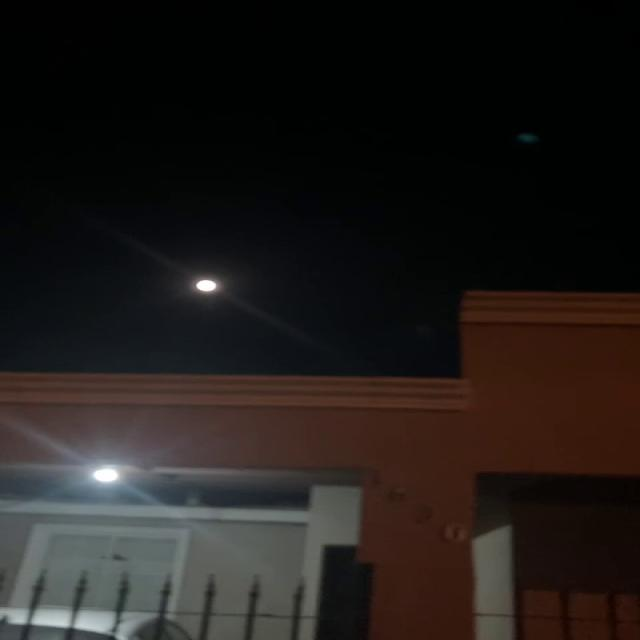moon: (188, 273, 232, 298)
